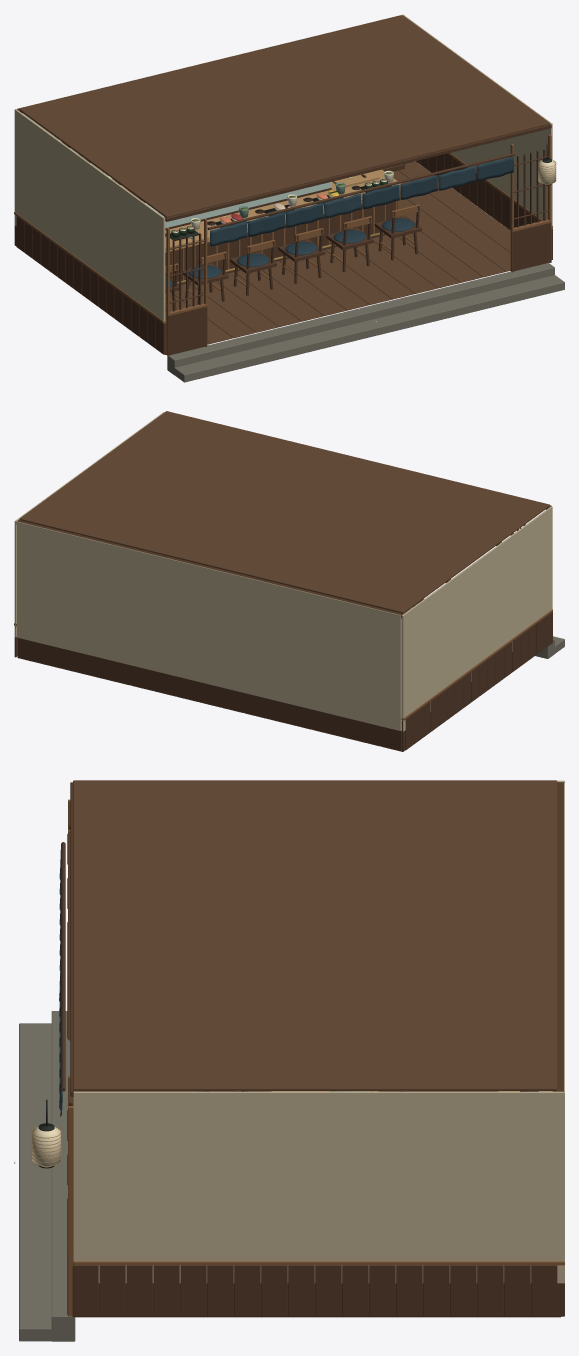
File: japan_kit34_sushi_bar1.fbx
3 renders of one model, top to bottom at view 1: azimuth 30°, elevation 25°; view 2: azimuth 150°, elevation 25°; view 3: azimuth 270°, elevation 25°, orthographic. The views are drawn at different scales.
Visible parts, largest first — view 1: S1_Ceiling_WalnutLight, S1_Floor_WalnutLight, S1_SideWalls_Wall, S1_SideWainscot_Walnut, S1_StepLower_Stone, S1_StepUpper_Stone, S1_BarBody_Walnut, S1_Facade0_Walnut, S1_Facade1_Walnut, S1_CeilingBeams_Walnut, S1_BarTop_Hinoki, S1_CurtainRail_Walnut (+18 smaller); view 2: S1_Ceiling_WalnutLight, S1_RearWall_Wall, S1_SideWalls_Wall, S1_RearBacking_Walnut, S1_SideWainscot_Walnut, S1_CeilingBeams_Walnut, S1_Floor_WalnutLight, S1_SideRails_Cedar; view 3: S1_Ceiling_WalnutLight, S1_SideWalls_Wall, S1_SideWainscot_Walnut, S1_StepLower_Stone, S1_StepUpper_Stone, S1_CeilingBeams_Walnut, S1_SideRails_Cedar, S1_SideBacking_Walnut, S1_Facade1_Cedar, S1_CurtainRail_Walnut, S1_EntryLantern_Paper, S1_Floor_WalnutLight (+1 smaller).
Part boxes in pixels (left/top/right/bottom): S1_Ceiling_WalnutLight: left=19, top=15, right=549, bottom=217; S1_Floor_WalnutLight: left=165, top=161, right=510, bottom=354; S1_SideWalls_Wall: left=14, top=14, right=552, bottom=322; S1_SideWainscot_Walnut: left=16, top=153, right=552, bottom=354; S1_StepLower_Stone: left=170, top=275, right=564, bottom=382; S1_StepUpper_Stone: left=167, top=263, right=554, bottom=374; S1_BarBody_Walnut: left=165, top=200, right=397, bottom=285; S1_Facade0_Walnut: left=168, top=233, right=207, bottom=355; S1_Facade1_Walnut: left=512, top=149, right=551, bottom=271; S1_CeilingBeams_Walnut: left=17, top=15, right=551, bottom=221; S1_BarTop_Hinoki: left=165, top=169, right=400, bottom=251; S1_CurtainRail_Walnut: left=207, top=153, right=514, bottom=229; S1_Ceiling_WalnutLight: left=19, top=411, right=549, bottom=613; S1_RearWall_Wall: left=17, top=521, right=401, bottom=730; S1_SideWalls_Wall: left=14, top=412, right=552, bottom=731; S1_RearBacking_Walnut: left=18, top=638, right=401, bottom=750; S1_SideWainscot_Walnut: left=405, top=612, right=552, bottom=750; S1_CeilingBeams_Walnut: left=16, top=505, right=551, bottom=618; S1_Floor_WalnutLight: left=17, top=608, right=410, bottom=751; S1_SideRails_Cedar: left=14, top=609, right=552, bottom=720; S1_Ceiling_WalnutLight: left=73, top=780, right=557, bottom=1090; S1_SideWalls_Wall: left=73, top=780, right=564, bottom=1283; S1_SideWainscot_Walnut: left=72, top=1264, right=557, bottom=1316; S1_StepLower_Stone: left=19, top=1023, right=65, bottom=1341; S1_StepUpper_Stone: left=51, top=1011, right=75, bottom=1341; S1_CeilingBeams_Walnut: left=70, top=782, right=563, bottom=1096; S1_SideRails_Cedar: left=73, top=1261, right=564, bottom=1265; S1_SideBacking_Walnut: left=98, top=1283, right=564, bottom=1316; S1_Facade1_Cedar: left=68, top=1076, right=73, bottom=1316; S1_CurtainRail_Walnut: left=61, top=842, right=65, bottom=1091; S1_EntryLantern_Paper: left=32, top=1127, right=60, bottom=1167; S1_Floor_WalnutLight: left=75, top=1091, right=560, bottom=1317.
Size of the model in its own units: 26.64 by 10.1 by 19.81.
